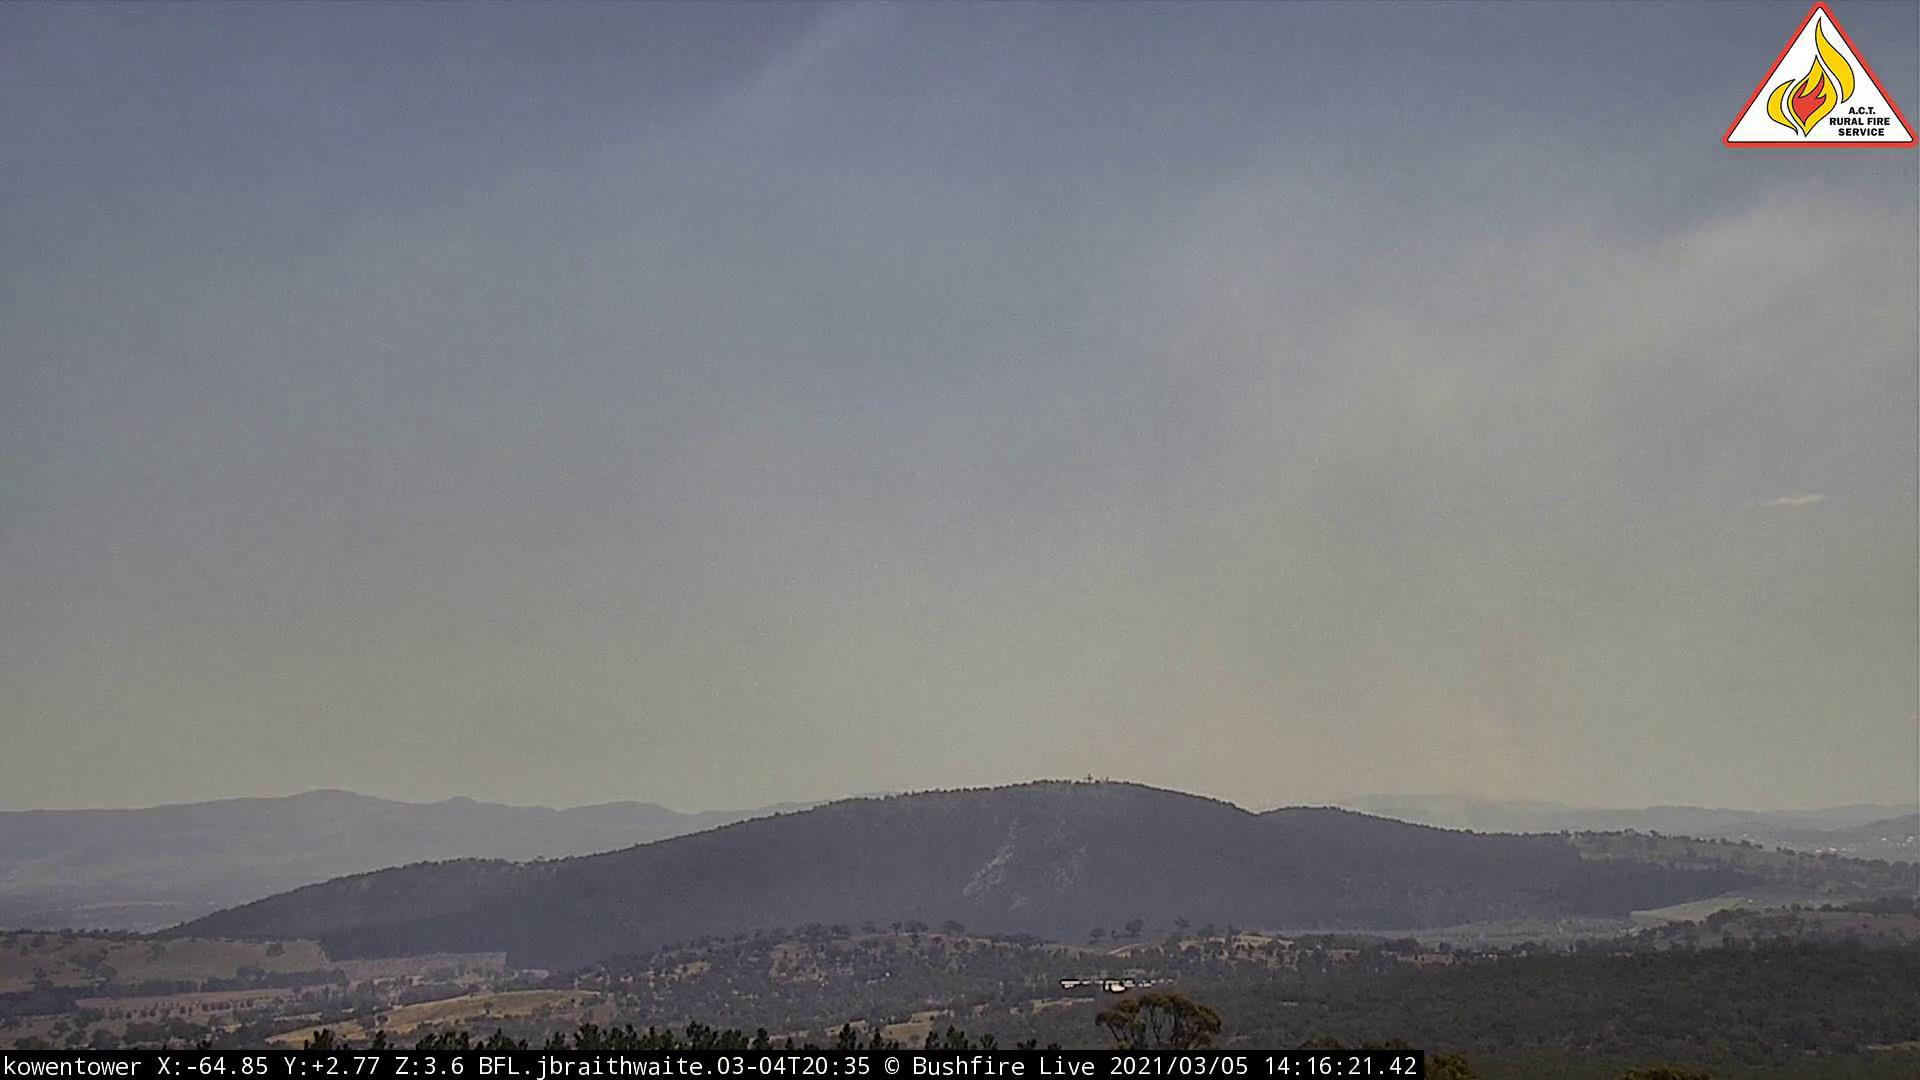Smoke: (1230, 447, 1756, 843)
